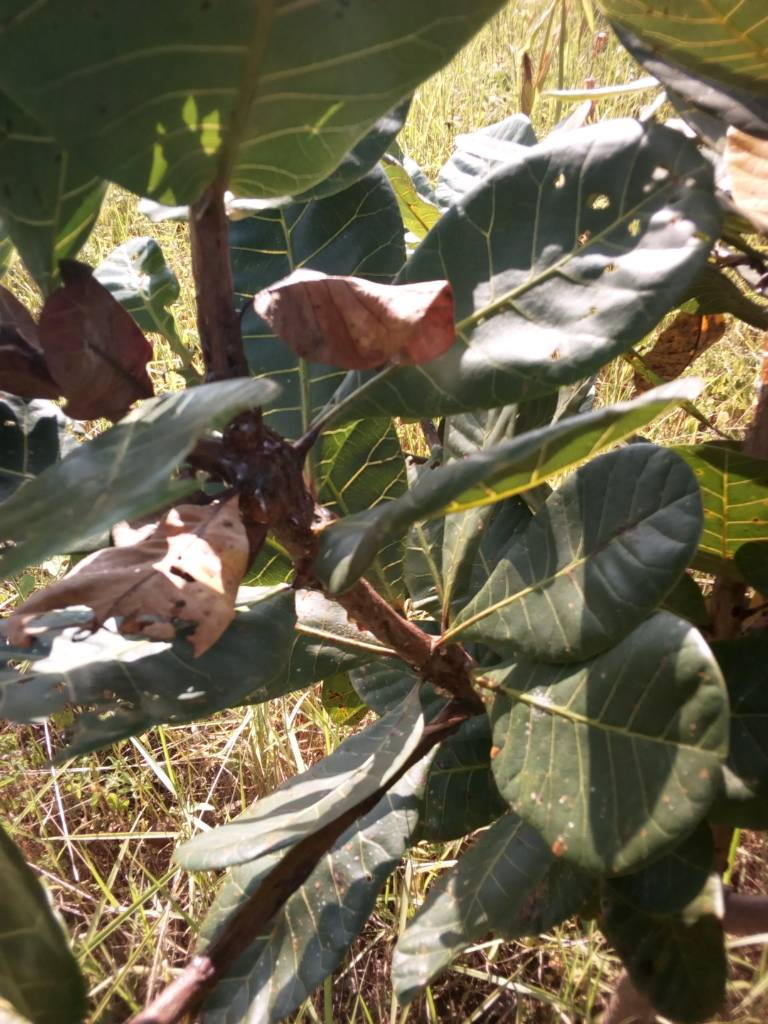Dessèchement des bourgeons: (225, 421, 315, 497)
